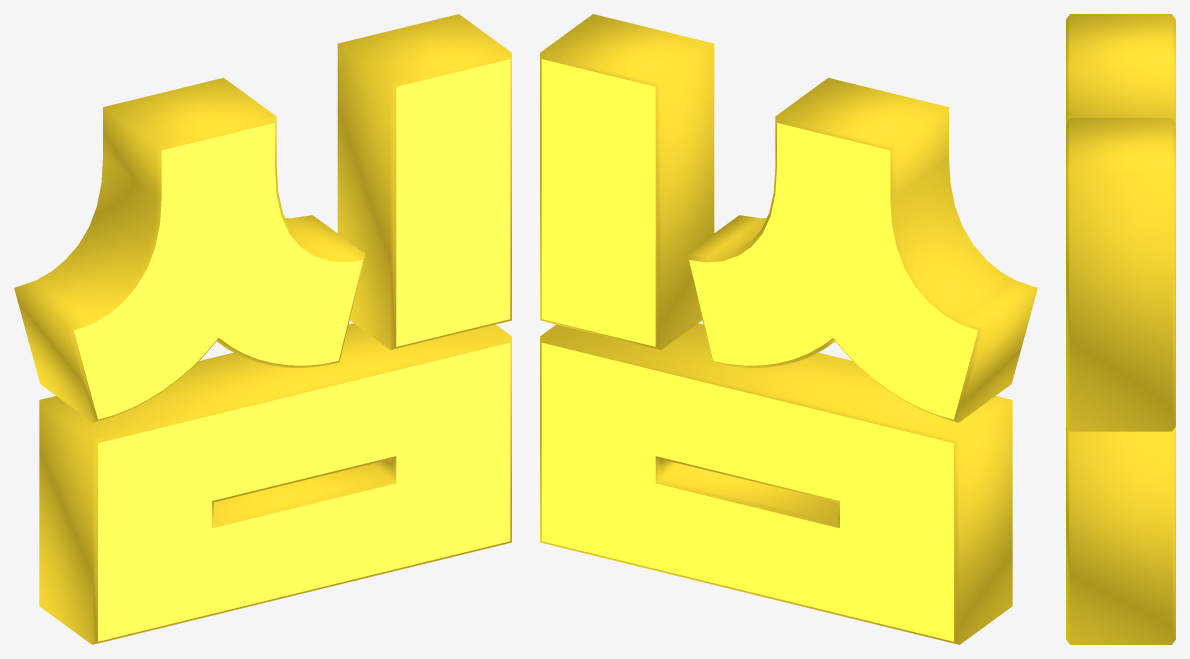
3 views of the same model, side by side, from view 1: azimuth 30°, elevation 25°; view 2: azimuth 150°, elevation 25°; view 3: azimuth 270°, elevation 25° (orthographic). The views are drawn at different scales.
Visible parts, largest first — view 1: glyph; view 2: glyph; view 3: glyph.
Part boxes in pixels (left/top/right/bottom): glyph: left=14, top=14, right=511, bottom=644; glyph: left=540, top=14, right=1037, bottom=644; glyph: left=1066, top=14, right=1175, bottom=644.
Size of the model in its own units: 0.0728 by 0.0766 by 0.0162.
